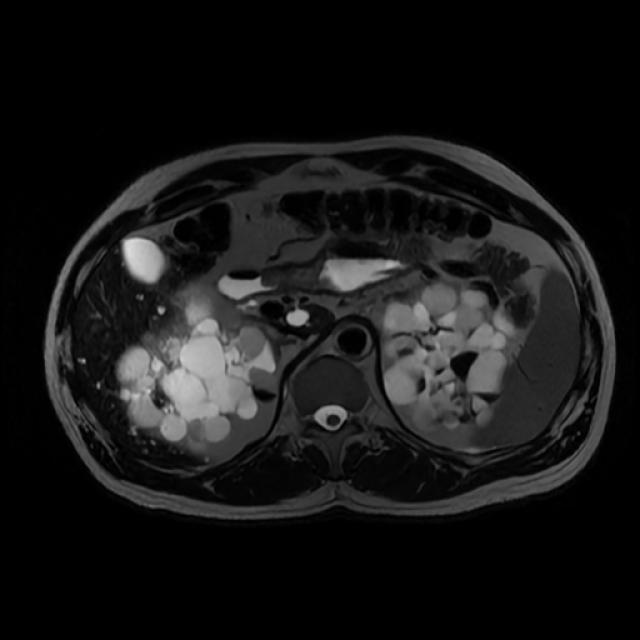sag: (113, 283, 276, 452)
sol: (381, 281, 515, 434)
